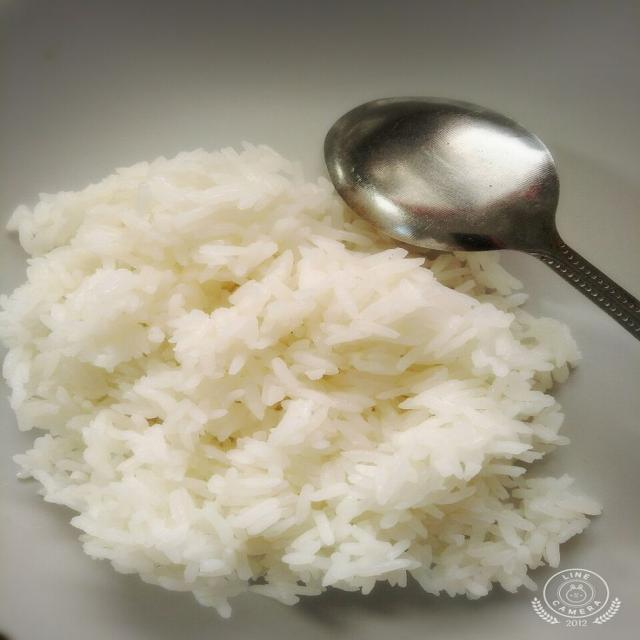rice: (0, 145, 599, 616)
